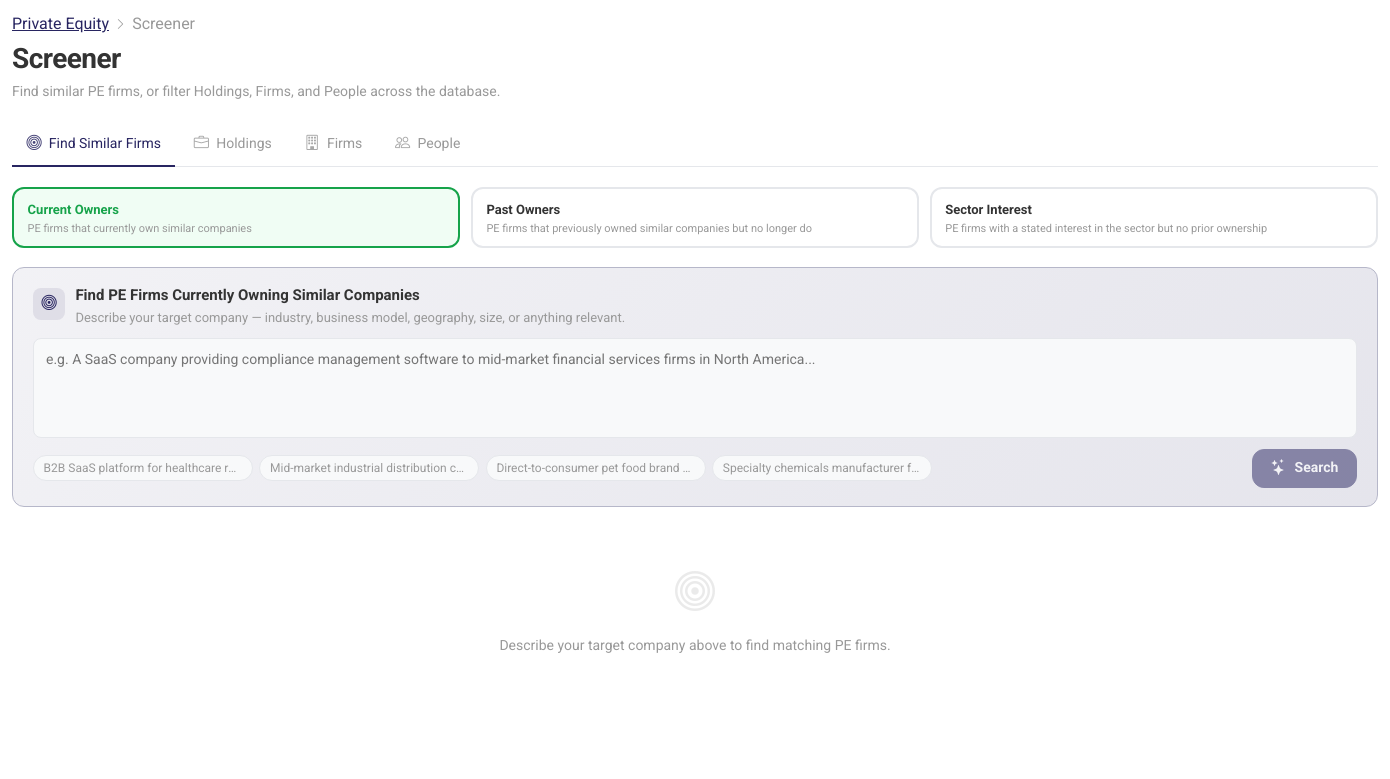
PEScreenerPage — Find Similar › renders Mode C cards cleanly (score 100, no evidence)
Click the radio button labelled "Sector Interest". click: {"x": 988, "y": 209}
box: [930,187,1378,248]
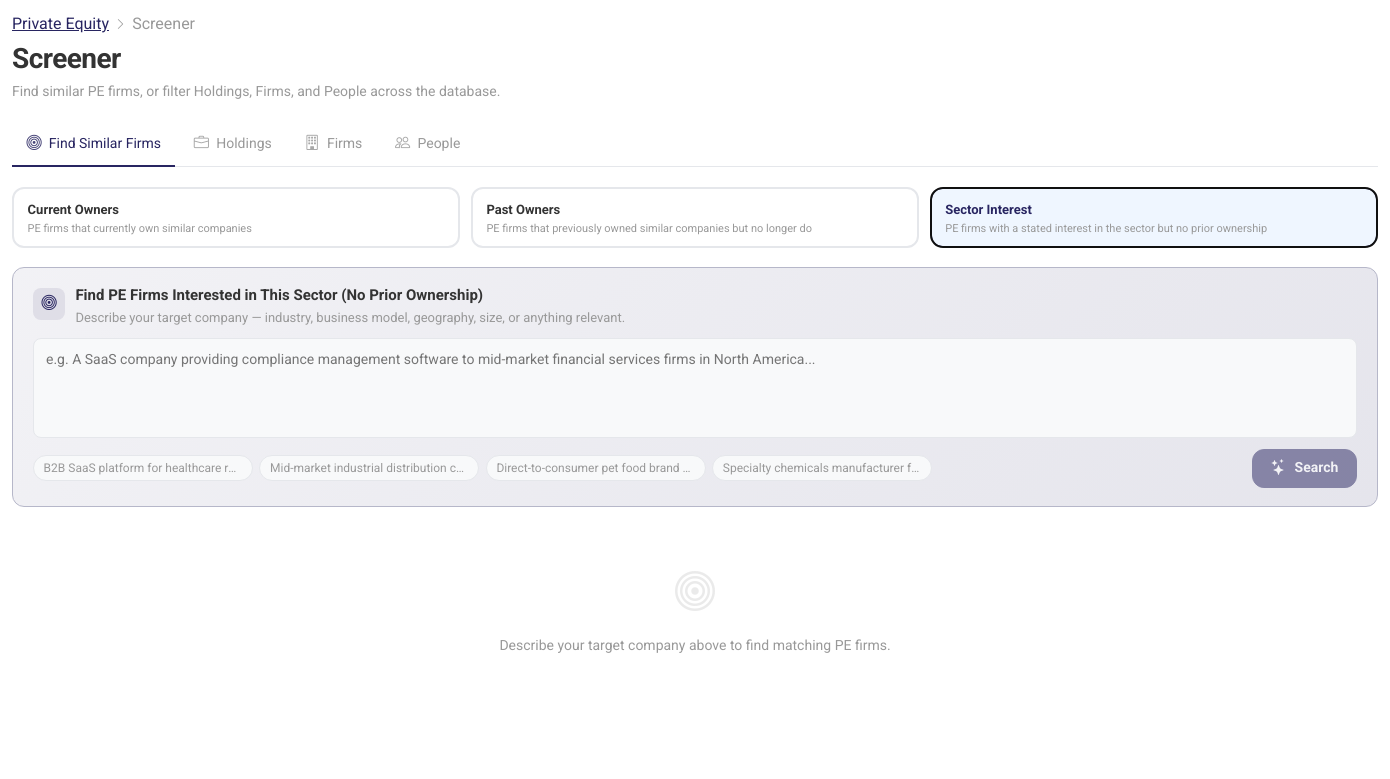
Type "healthcare software" into the text box named "target company description". click: {"x": 695, "y": 388}
box: [33,338,1357,438]
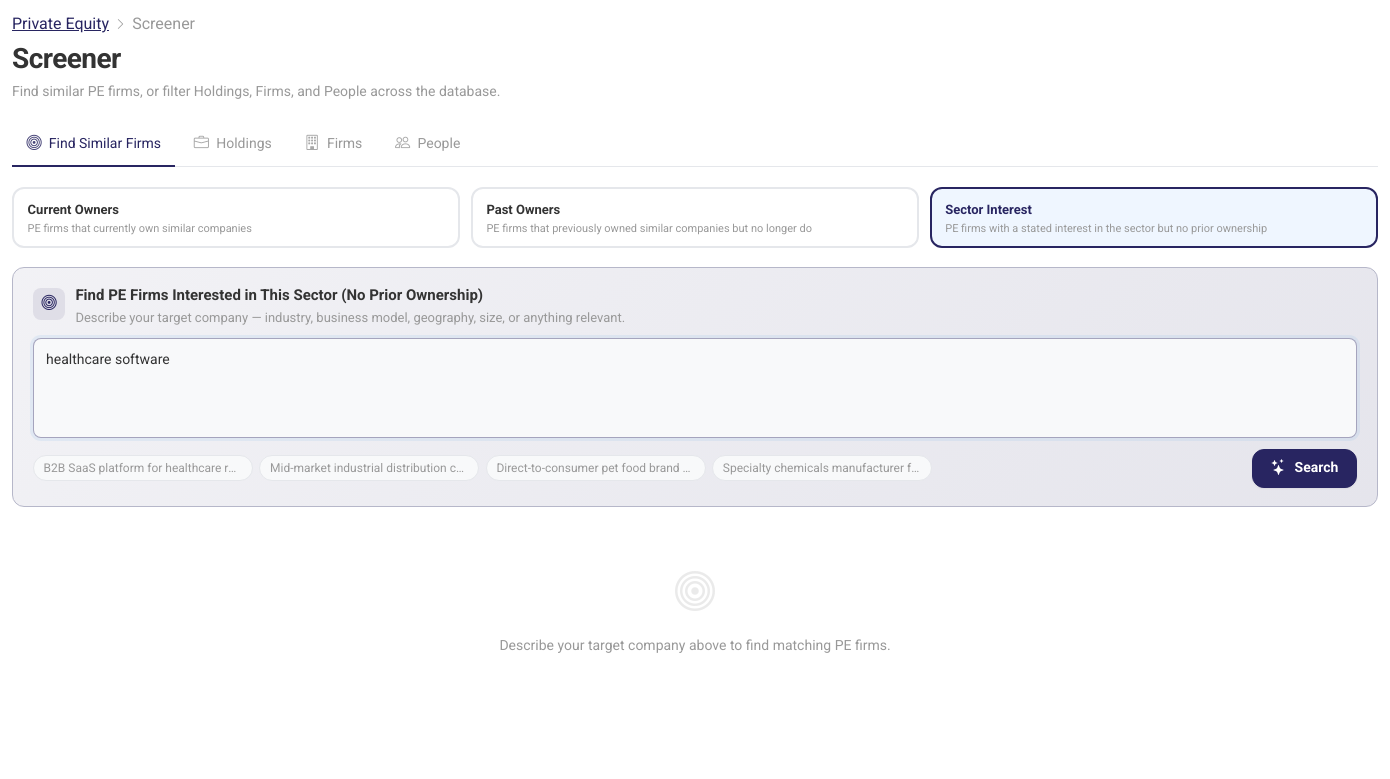
Click the button "Search". click: {"x": 1304, "y": 468}
box: [1252,449,1357,488]
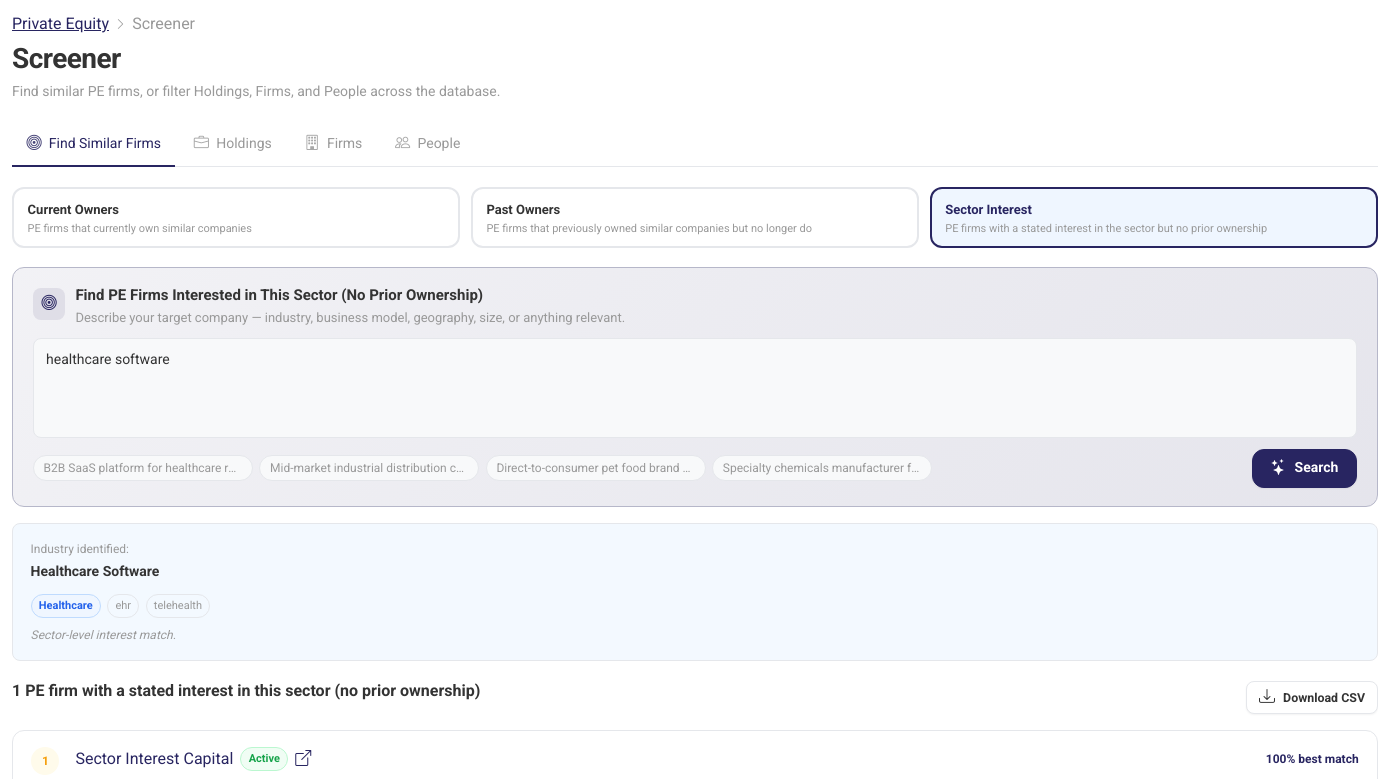
Result: the link "Sector Interest Capital" is shown at [75,747,233,771]
Result: the text "100% best match" is shown at [1266,750,1359,768]
